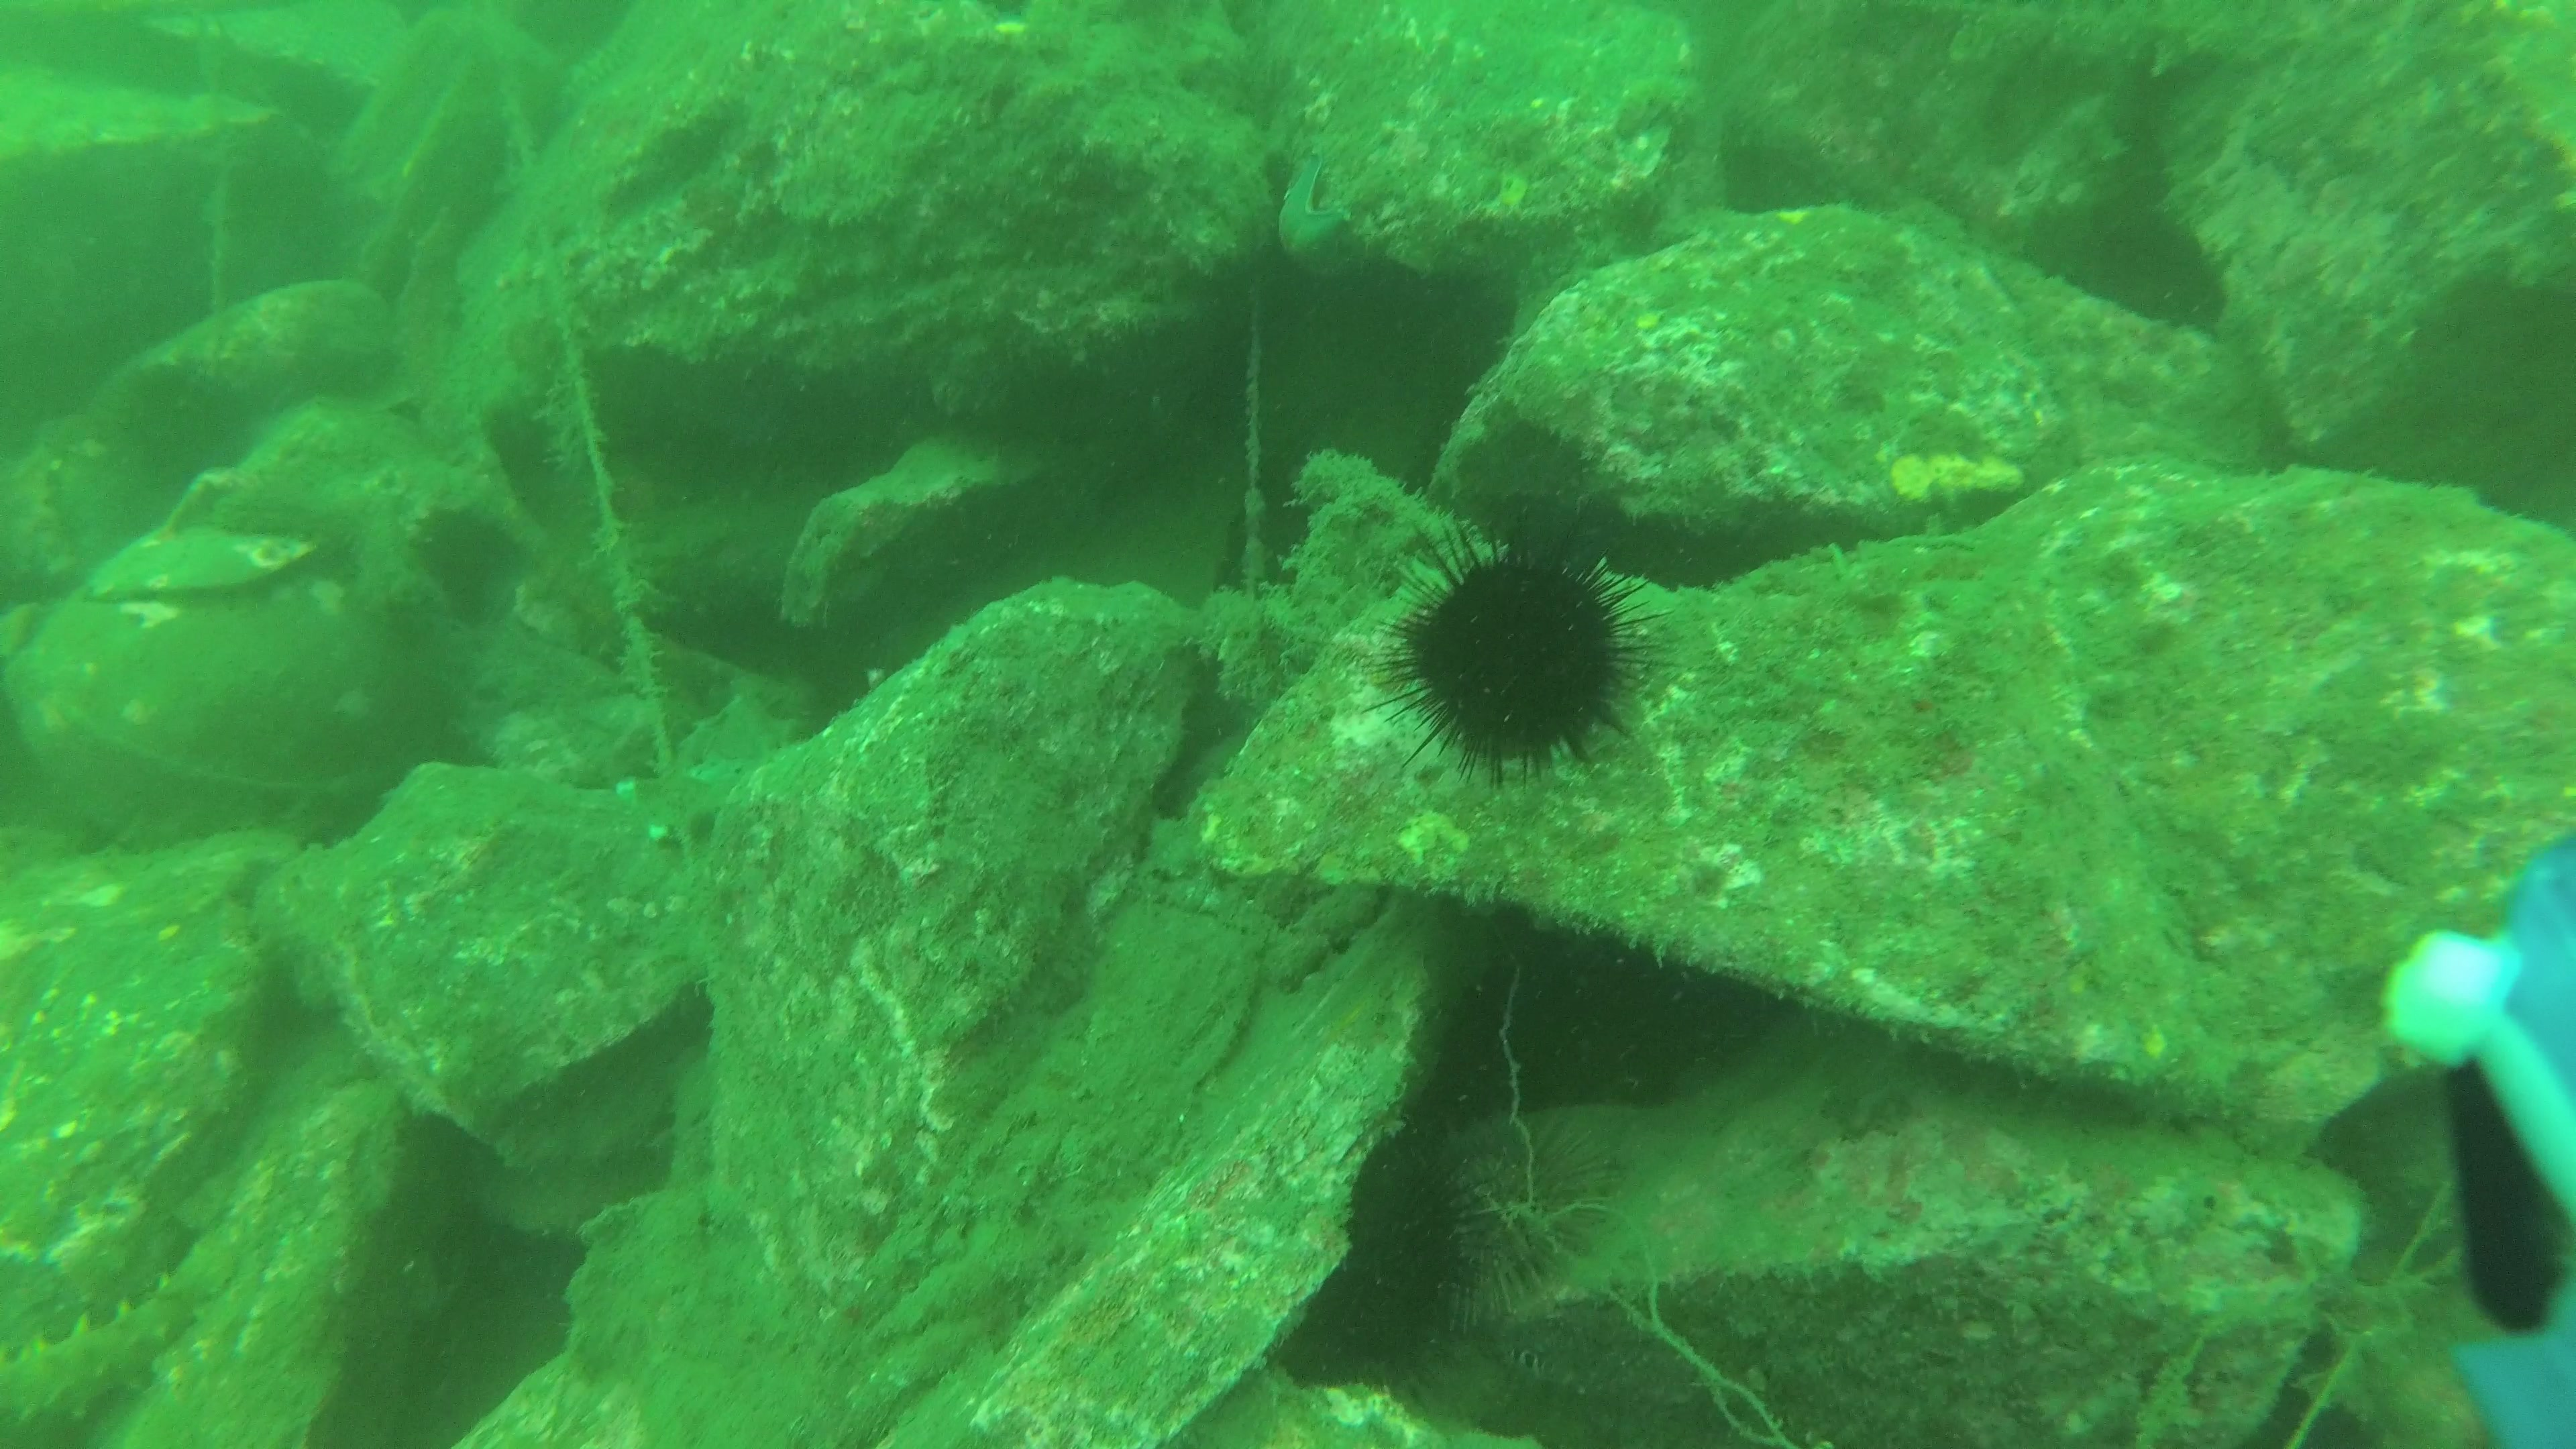echinus: (1362, 508, 1668, 796), (1290, 1131, 1481, 1385), (1449, 1125, 1622, 1329)
holothurian: (4, 1265, 214, 1449)
starfish: (1269, 147, 1369, 299)
